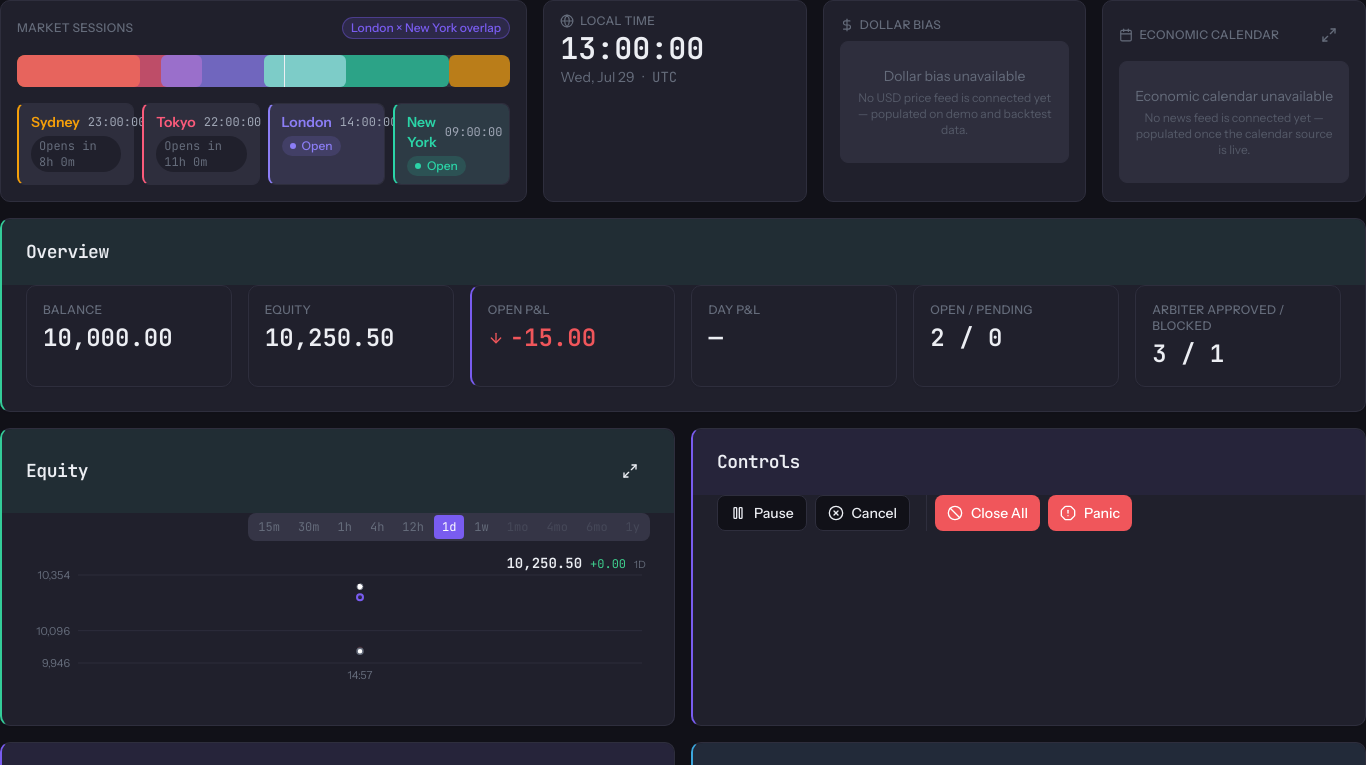
equity maximize › keeps exactly one chart and one range selector when maximized
The image size is (1366, 765).
Check: the element with test id "range-selector" is shown, box top-left (248, 513), bottom-right (650, 541)
Click the button named "Maximize Equity" at (630, 471), box top-left (610, 453), bottom-right (650, 489)
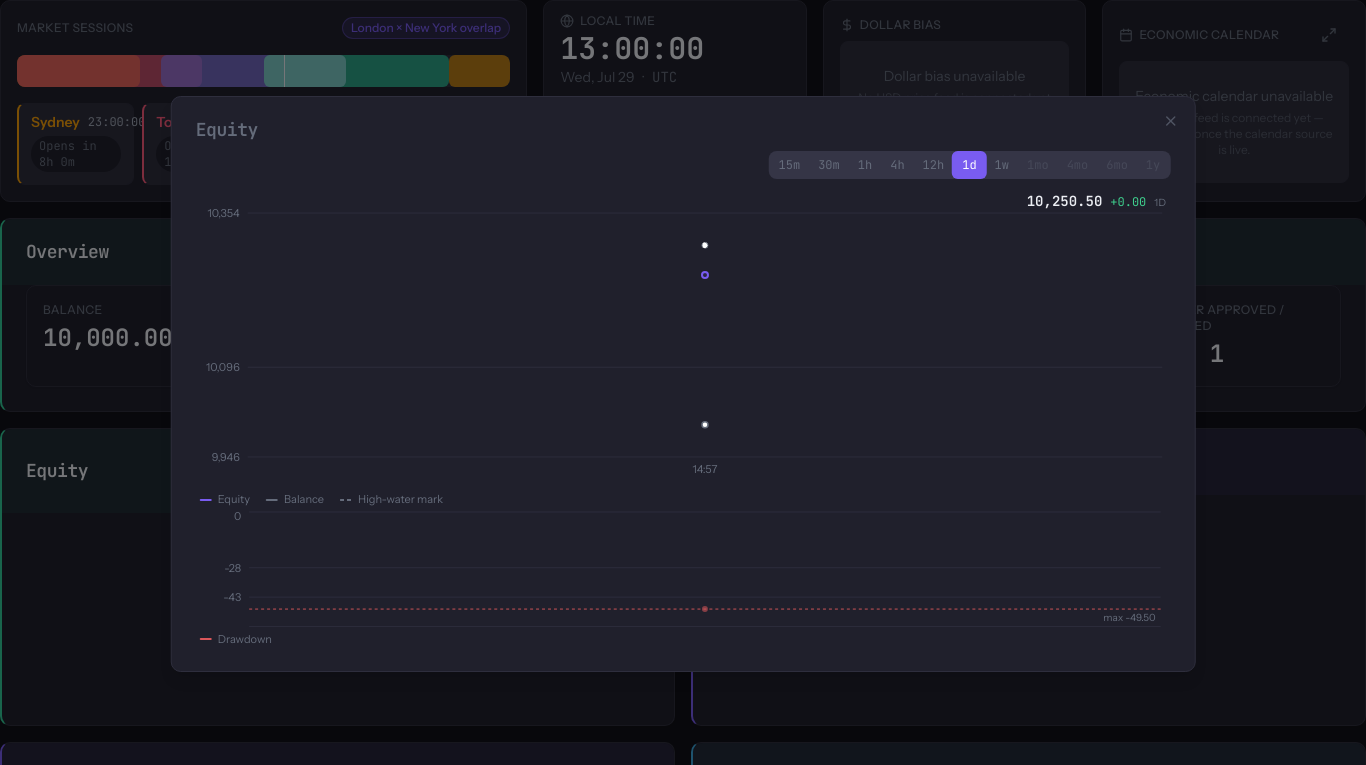
Check: the number of pictures with test id "equity-sparkline" is 1, box top-left (196, 191), bottom-right (1170, 647)
Check: the dialog "Equity" is shown, box top-left (171, 96), bottom-right (1195, 672)
